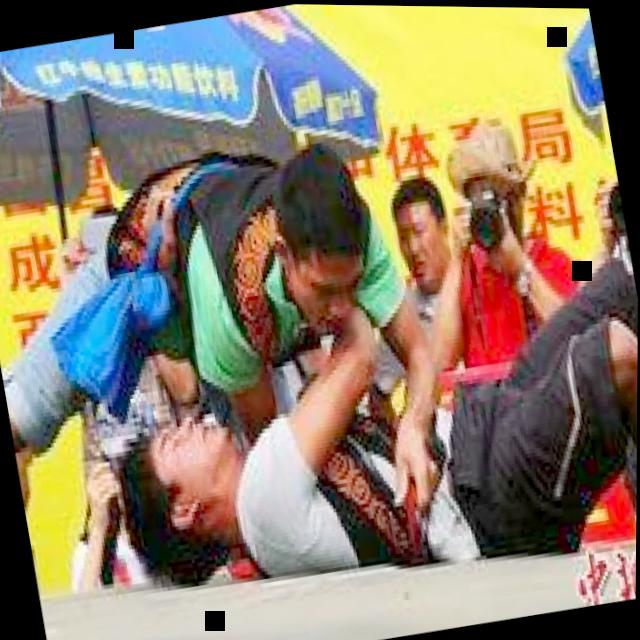Fall-Detected: (44, 192, 639, 634)
